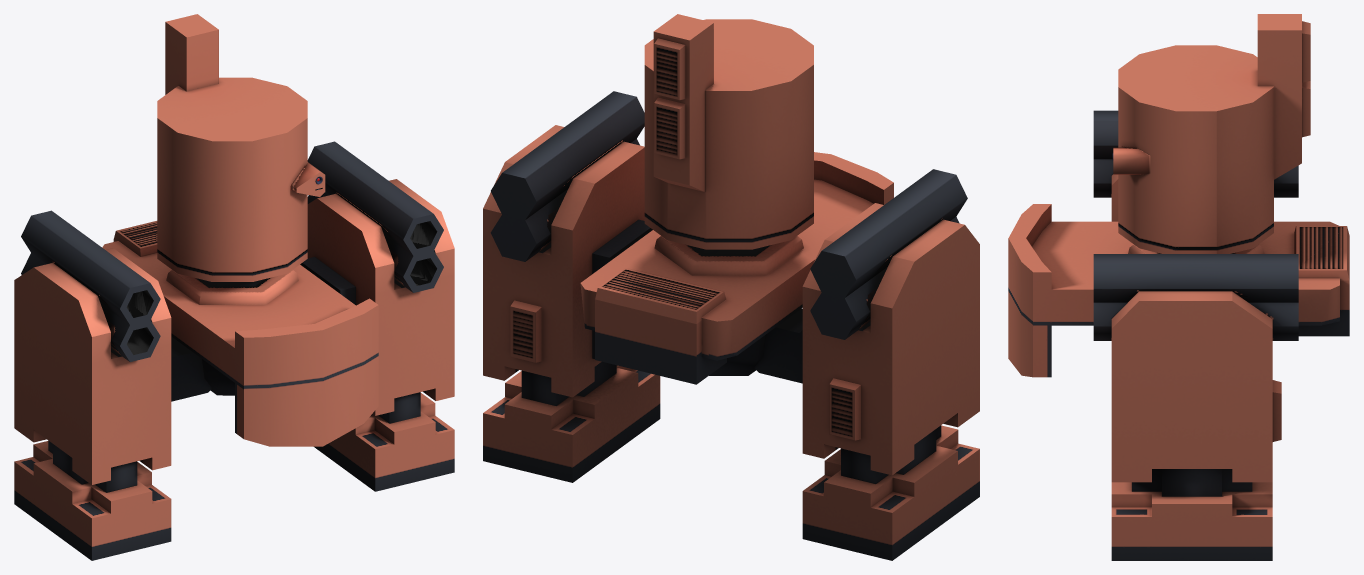
File: Sample_MobChara_A_0002_b.fbx
3 views of the same model, side by side, from view 1: azimuth 30°, elevation 25°; view 2: azimuth 150°, elevation 25°; view 3: azimuth 270°, elevation 25° (orthographic). The views are drawn at different scales.
Visible parts, largest first — view 1: Sample_Robot_A; view 2: Sample_Robot_A; view 3: Sample_Robot_A.
Part boxes in pixels (left/top/right/bottom): Sample_Robot_A: left=14, top=14, right=454, bottom=560; Sample_Robot_A: left=483, top=14, right=979, bottom=560; Sample_Robot_A: left=1008, top=14, right=1349, bottom=560.
Size of what is drawn, in the model's own units: 539 by 423 by 613.
